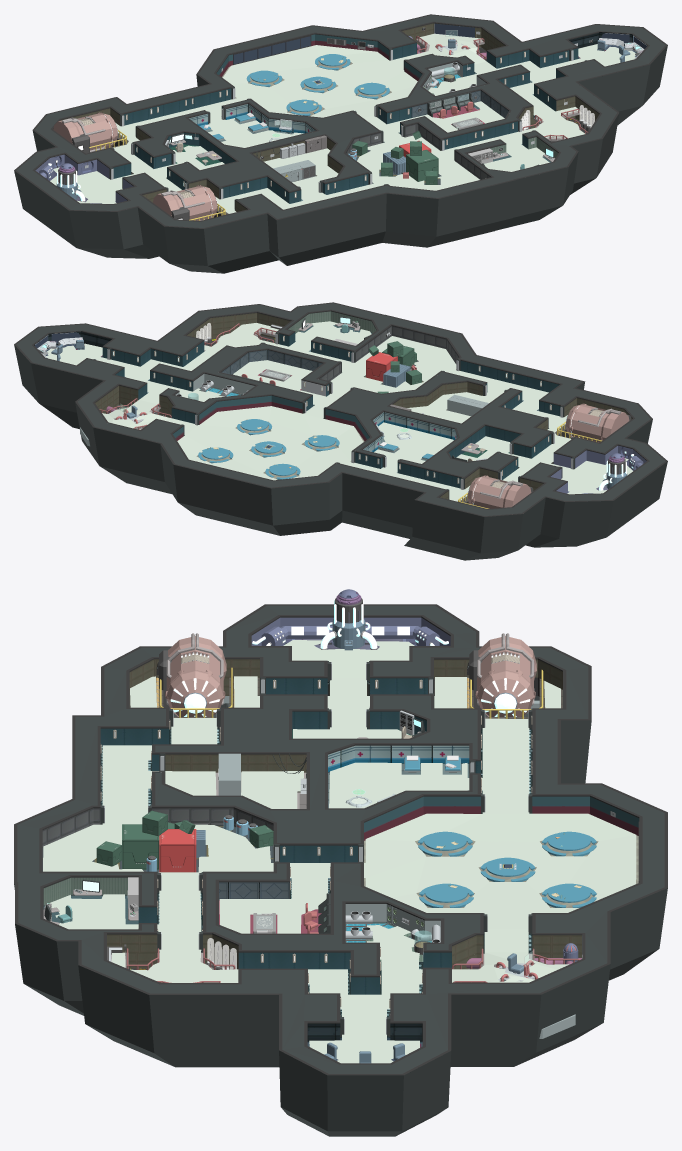
The model's file is skeld.be7bc474.glb.
3 renders of one model, top to bottom at view 1: azimuth 30°, elevation 25°; view 2: azimuth 150°, elevation 25°; view 3: azimuth 270°, elevation 25°, orthographic. The views are drawn at different scales.
Visible parts, largest first — view 1: 0080_DarkC, nav-mesh, Color_M08, paredes_me, The Skeld, pared_escu, _Color_B05, Color_I07, Color_I04, Translucen, Caja_textu, pared_cafe (+11 smaller); view 2: 0080_DarkC, nav-mesh, Color_M08, paredes_me, The Skeld, pared_escu, _Color_B05, Color_I07, pared_cafe, Color_J01, pared_alma, Color_I06 (+7 smaller); view 3: 0080_DarkC, nav-mesh, Color_M08, The Skeld, paredes_me, pared_escu, _Color_B05, Color_I07, pared_cafe, Color_I06, Color_J01, pared_alma (+10 smaller).
Part boxes in pixels (box(x1,y1,x2,y2)): 0080_DarkC: box(14, 15, 667, 273); nav-mesh: box(50, 33, 635, 213); Color_M08: box(14, 14, 667, 228); paredes_me: box(113, 43, 578, 203); The Skeld: box(59, 32, 647, 184); pared_escu: box(53, 23, 599, 211); _Color_B05: box(53, 113, 487, 220); Color_I07: box(246, 54, 389, 115); Color_I04: box(55, 27, 644, 199); Translucen: box(233, 23, 646, 83); Caja_textu: box(352, 131, 438, 184); pared_cafe: box(216, 34, 422, 80); 0080_DarkC: box(14, 303, 667, 560); nav-mesh: box(46, 321, 632, 501); Color_M08: box(14, 302, 667, 516); paredes_me: box(102, 332, 560, 488); The Skeld: box(34, 311, 624, 479); pared_escu: box(95, 313, 632, 499); _Color_B05: box(468, 404, 629, 508); Color_I07: box(198, 419, 339, 479); pared_cafe: box(173, 395, 369, 441); Color_J01: box(80, 373, 488, 460); pared_alma: box(320, 326, 458, 381); Color_I06: box(550, 445, 646, 493); 0080_DarkC: box(14, 605, 667, 1136); nav-mesh: box(43, 640, 636, 1063); Color_M08: box(14, 604, 667, 1075); The Skeld: box(42, 592, 638, 1047); paredes_me: box(100, 678, 480, 994); pared_escu: box(107, 659, 581, 969); _Color_B05: box(166, 636, 536, 716); Color_I07: box(418, 831, 596, 907); pared_cafe: box(364, 796, 639, 840); Color_I06: box(251, 589, 578, 964); Color_J01: box(218, 696, 575, 1038); pared_alma: box(42, 808, 273, 847).
Size of the model in its own units: 122 by 15.12 by 71.31.
95 materials, 44 textured.
